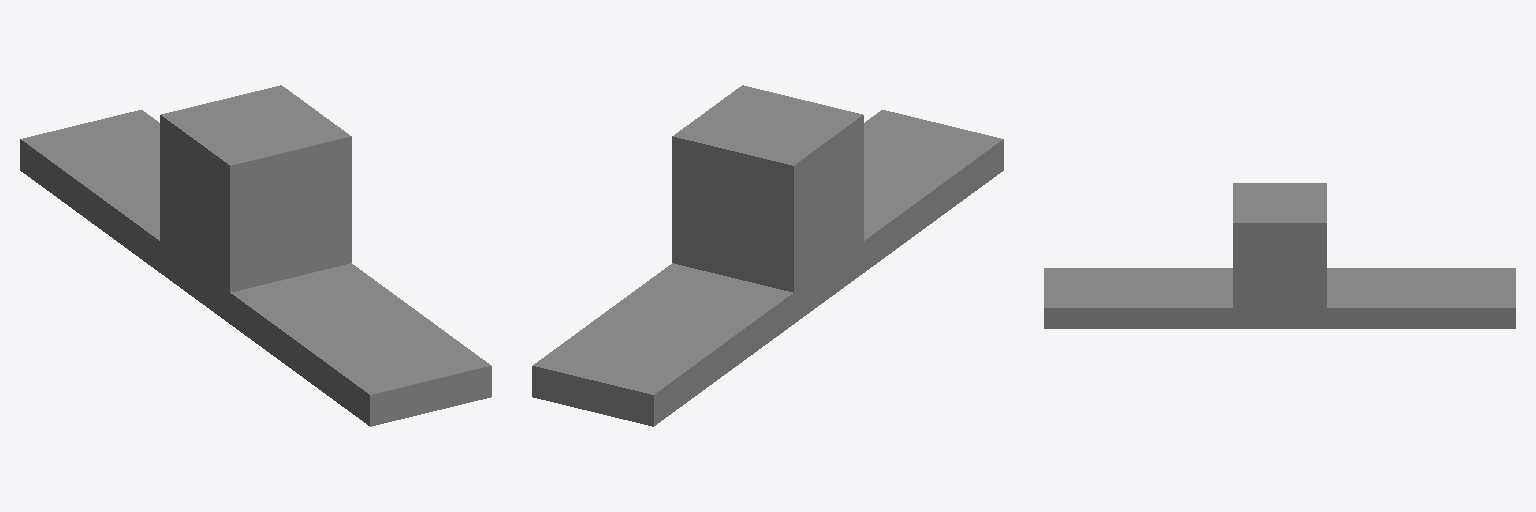
The robot description file, URDF, robot "big_part_robot":
<?xml version="1.0"?>
<robot name="big_part_robot">
  <link name="long_link">
    <visual>
      <origin xyz="0 0 0" rpy="0 0 0"/>
      <geometry>
        <box size="0.04 0.2 0.01"/>
      </geometry>
      <material name="gray">
        <color rgba="0.6 0.6 0.6 1.0"/>
      </material>
    </visual>

    <collision>
      <origin xyz="0 0 0" rpy="0 0 0"/>
      <geometry>
        <box size="0.04 0.2 0.01"/>
      </geometry>
    </collision>

    <inertial>
      <origin xyz="0 0 0" rpy="0 0 0"/>
      <mass value="0.1"/>
      <inertia ixx="0.001" ixy="0.0" ixz="0.0"
               iyy="0.001" iyz="0.0"
               izz="0.001"/>
    </inertial>
  </link>

  <link name="cube_link">
    <visual>
      <origin xyz="0 0 0" rpy="0 0 0"/>
      <geometry>
        <box size="0.04 0.04 0.04"/>
      </geometry>
      <material name="gray">
        <color rgba="0.6 0.6 0.6 1.0"/>
      </material>
    </visual>

    <collision>
      <origin xyz="0 0 0" rpy="0 0 0"/>
      <geometry>
        <box size="0.04 0.04 0.04"/>
      </geometry>
    </collision>

    <inertial>
      <origin xyz="0 0 0" rpy="0 0 0"/>
      <mass value="0.1"/>
      <inertia ixx="0.001" ixy="0.0" ixz="0.0"
               iyy="0.001" iyz="0.0"
               izz="0.001"/>
    </inertial>
  </link>

  <joint name="long_to_box" type="fixed">
    <!-- The base_link is 0.01m tall, link1 is 0.02m tall -->
    <!-- So we raise it by 0.5*(0.01 + 0.02) = 0.015 to stack flat -->
    <origin xyz="0.0 0.0 0.025" rpy="0 0 0"/>
    <parent link="long_link"/>
    <child link="cube_link"/>
  </joint>

</robot>

--- Facts derived from the render (not from the file) ---
Views: 3 orthographic renders of the robot side by side, from view 1: azimuth 30°, elevation 25°; view 2: azimuth 150°, elevation 25°; view 3: azimuth 270°, elevation 25°.
Robot: big_part_robot — 2 links, 1 joints (1 fixed); root link long_link; default pose: all joints at 0.
Links seen in each view (by area): view 1: long_link, cube_link; view 2: long_link, cube_link; view 3: long_link, cube_link.
Link boxes in pixels (bbox=[...]): long_link: bbox=[20, 110, 491, 426]; cube_link: bbox=[160, 85, 351, 292]; long_link: bbox=[532, 110, 1003, 426]; cube_link: bbox=[672, 85, 863, 292]; long_link: bbox=[1044, 268, 1515, 328]; cube_link: bbox=[1233, 183, 1326, 307].
Size in the robot's own frame: 0.04 by 0.2 by 0.05 metres.
Geometry: primitives only (box / cylinder / sphere), no mesh files.